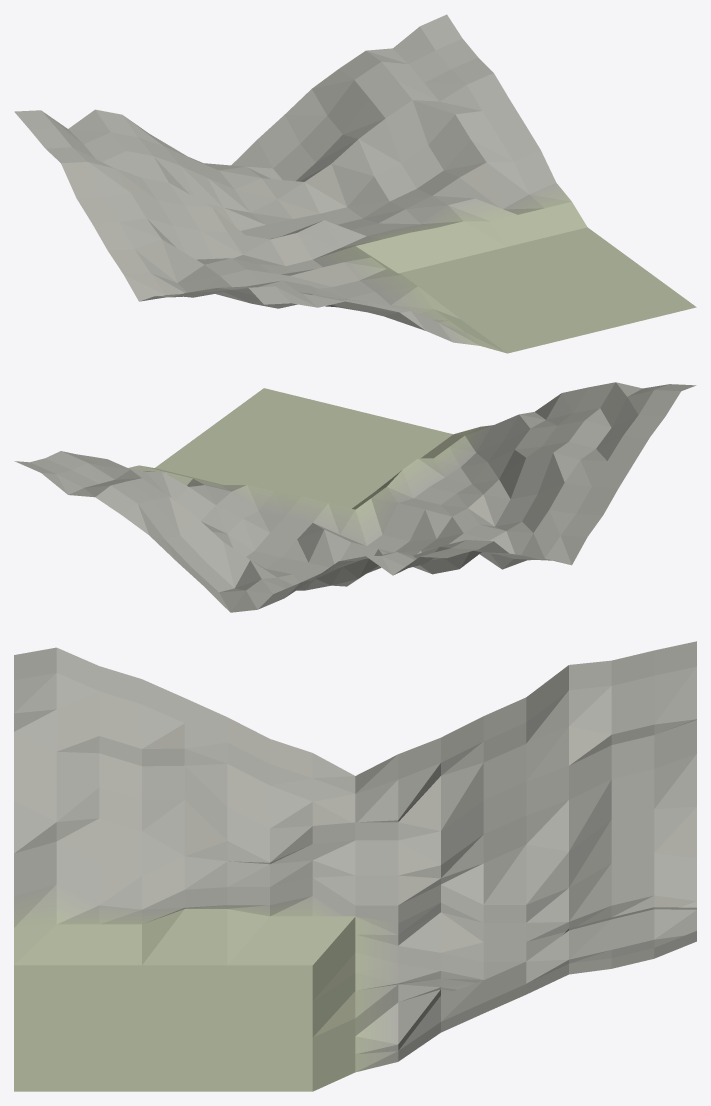
3 renders of one model, top to bottom at view 1: azimuth 30°, elevation 25°; view 2: azimuth 150°, elevation 25°; view 3: azimuth 270°, elevation 25°, orthographic. The views are drawn at different scales.
Size of the model in its own units: 32 by 8.37 by 32.
